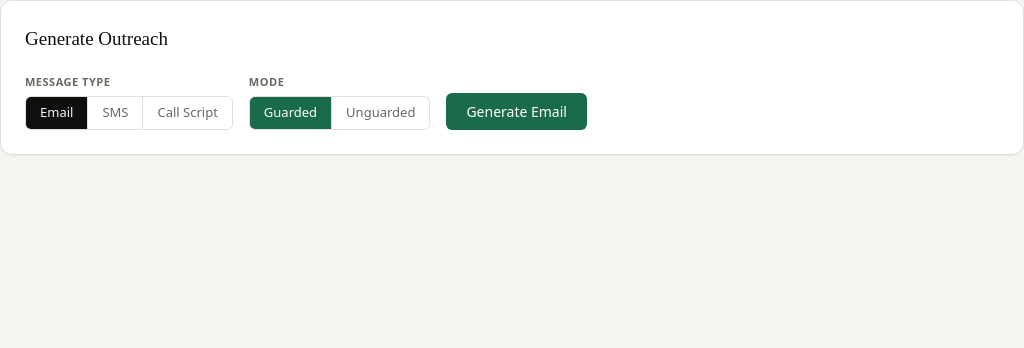
GeneratePanel — type change › resets the result when the type changes
This screenshot has width=1024, height=348.
What coordinates should you click on to do the following:
click the button "Generate Email"
I would click on:
 (517, 111)
Its box is [446,92,587,130].
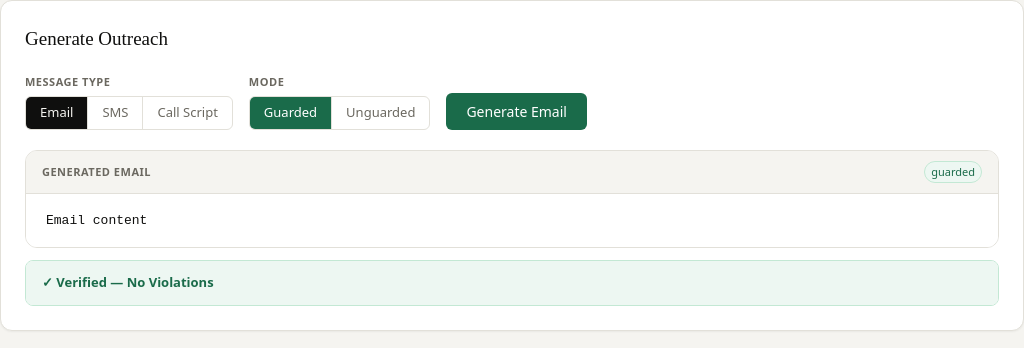
// Change type — result should be cleared
What coordinates should you click on to do the following:
click the button "SMS"
I would click on:
 (116, 113)
Its box is [88,97,144,128].
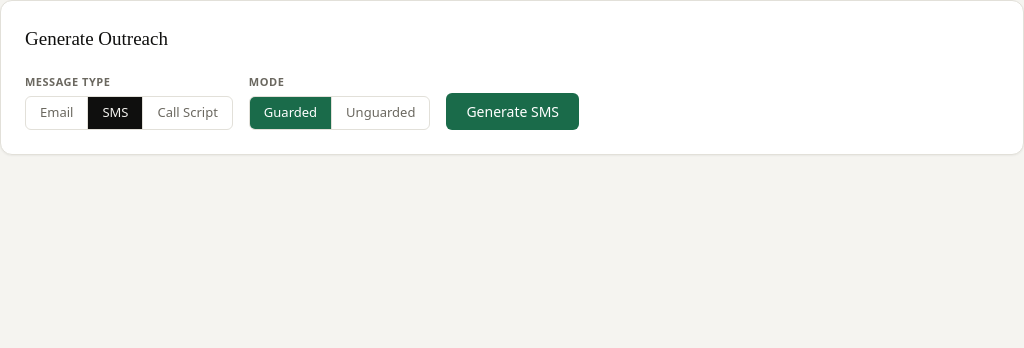
Expected: the text "Email content" is gone
